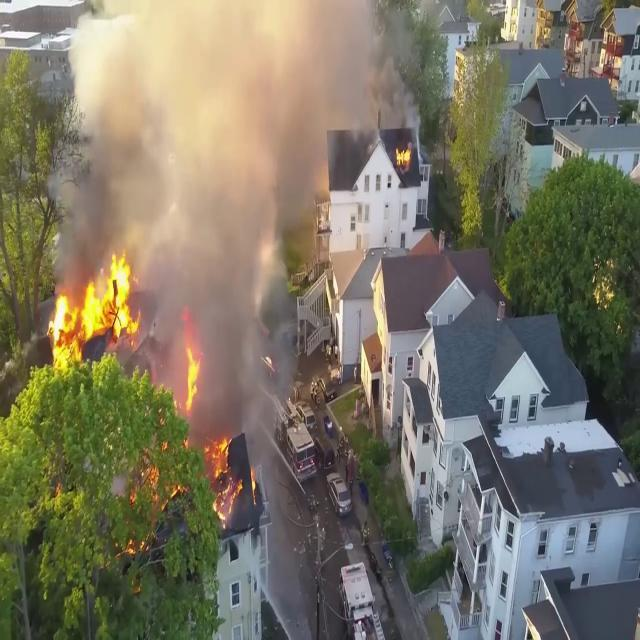Fire: (47, 246, 143, 376), (183, 339, 207, 415), (394, 138, 414, 170)
Smoke: (36, 0, 382, 331)
